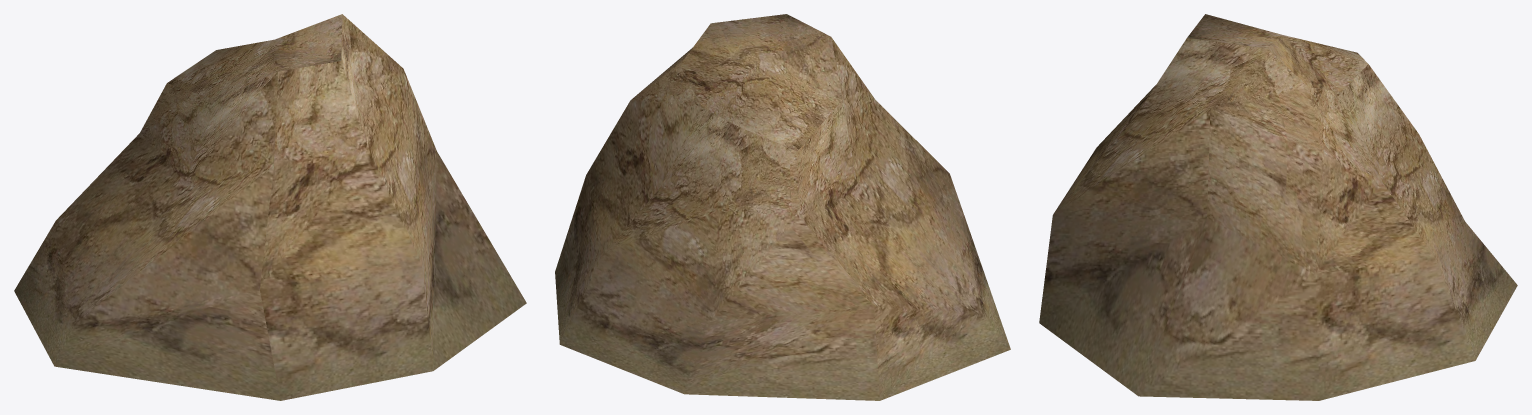
File: w_cd_stone_01_01.glb
3 views of the same model, side by side, from view 1: azimuth 30°, elevation 25°; view 2: azimuth 150°, elevation 25°; view 3: azimuth 270°, elevation 25° (orthographic). The views are drawn at different scales.
Parts seen in each view (by area): view 1: w_cd_stone_01_01; view 2: w_cd_stone_01_01; view 3: w_cd_stone_01_01.
Part boxes in pixels (box(x1,y1,x2,y2)): w_cd_stone_01_01: box(14, 14, 526, 400); w_cd_stone_01_01: box(555, 14, 1010, 400); w_cd_stone_01_01: box(1039, 14, 1517, 400).
Size of the model in its own units: 15.16 by 9.12 by 13.86.
Materials: 1 (1 with a texture image).
